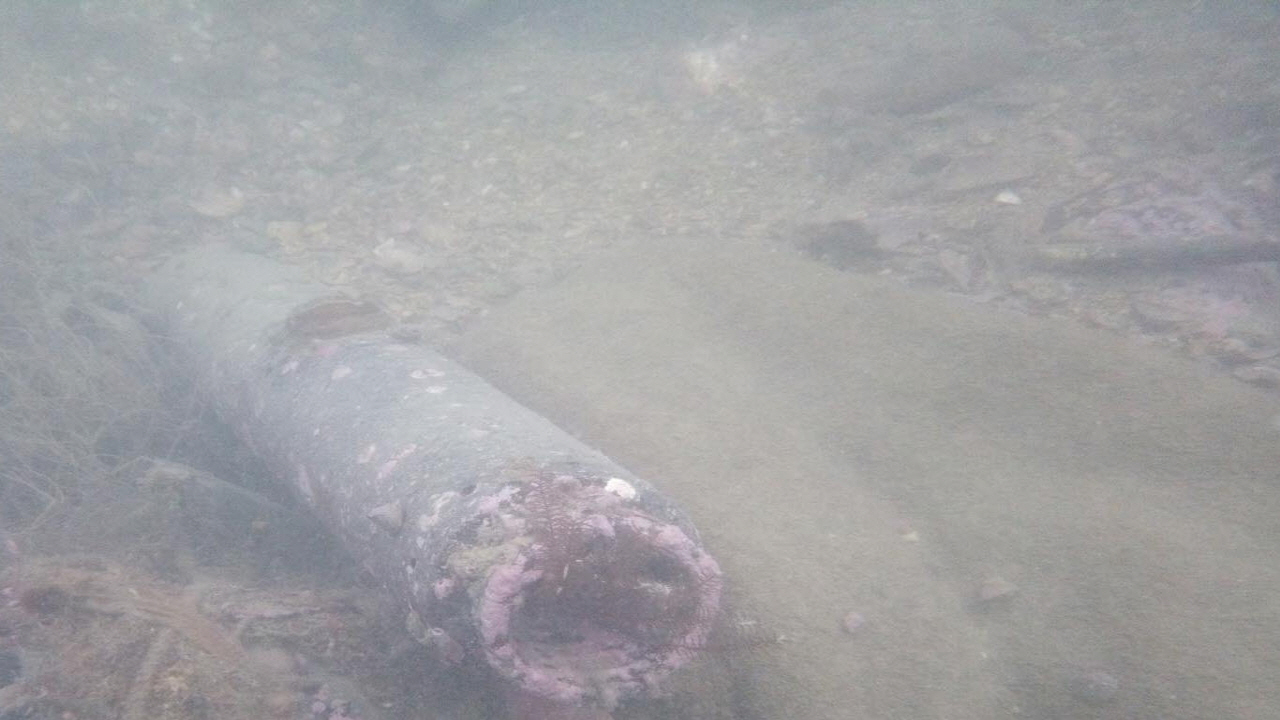eel fish trap: (137, 249, 721, 701)
